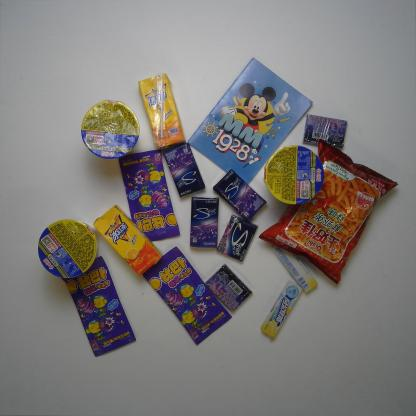Candy: (140, 245, 234, 348), (62, 252, 138, 363), (118, 145, 184, 247), (270, 234, 320, 297), (258, 279, 304, 342)
Drink: (91, 204, 165, 278), (137, 71, 187, 150)
Gum: (211, 167, 267, 223), (161, 139, 207, 200), (202, 262, 254, 314), (214, 212, 262, 263), (300, 111, 350, 151), (188, 194, 221, 250)
Instant Noodles: (263, 143, 326, 206), (78, 99, 142, 161), (36, 219, 101, 280)
Puffed Food: (257, 137, 399, 286)
Stationery: (188, 56, 315, 189)
